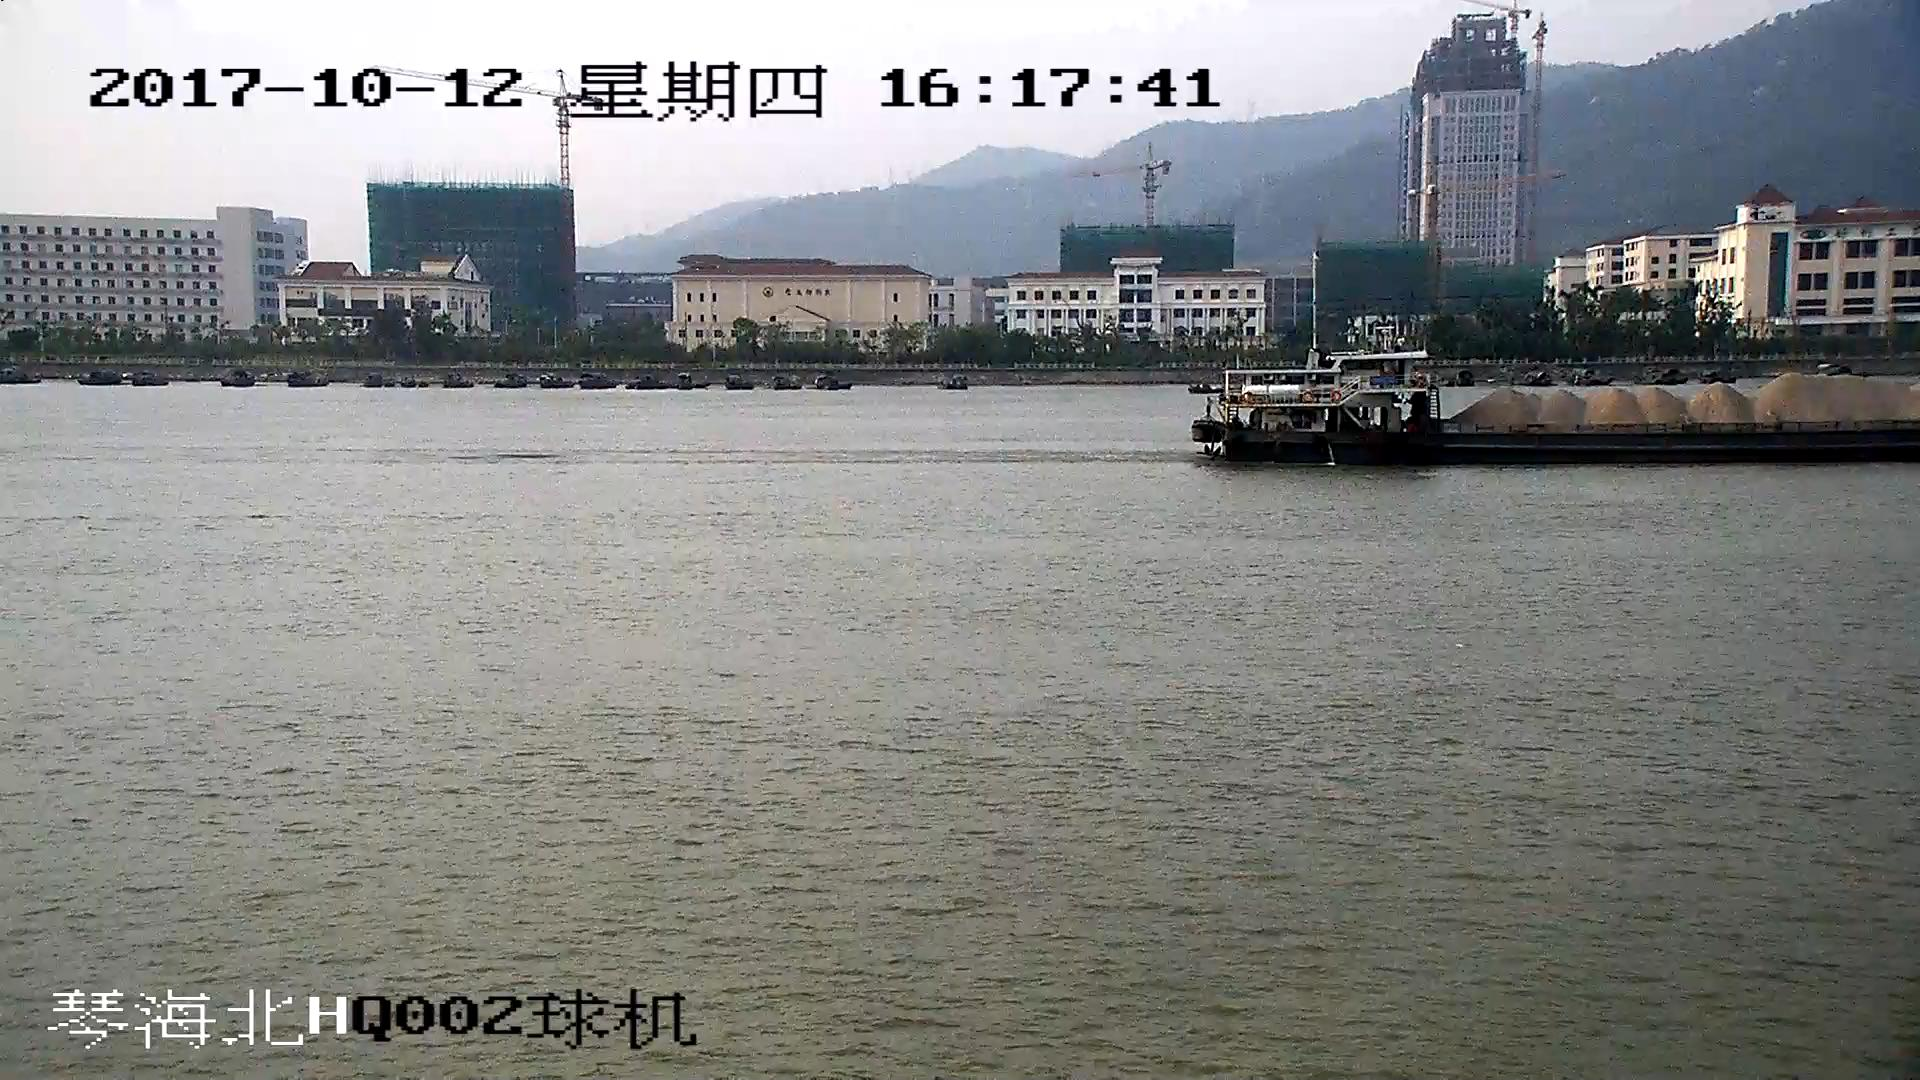ore carrier: (1191, 350, 1920, 461)
